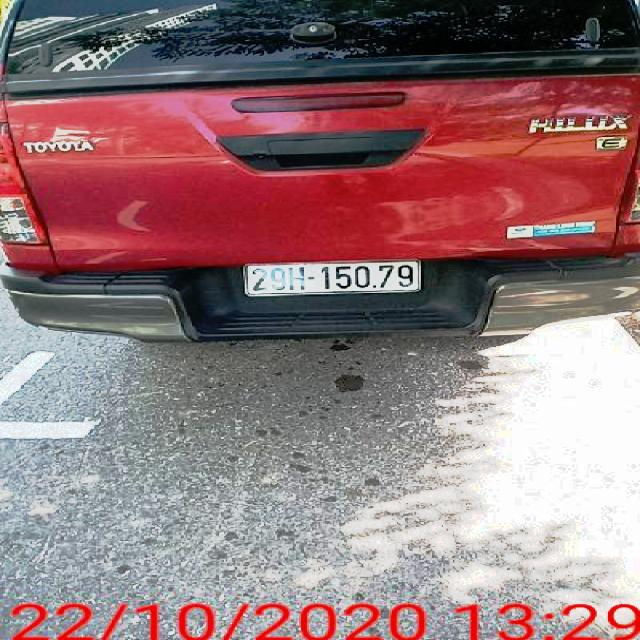license_plate: (248, 261, 423, 297)
